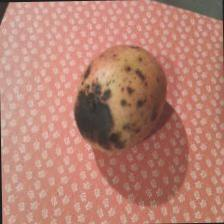Mango Overripe: (71, 43, 168, 152)
